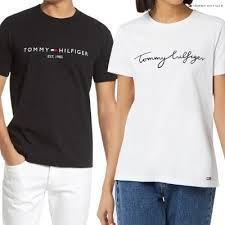Tshirt: (107, 9, 225, 199), (0, 3, 114, 171)
